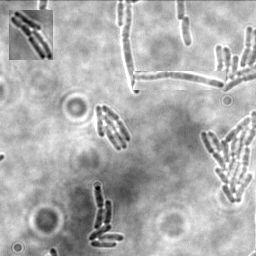Dividing: (123, 1, 142, 95), (133, 71, 226, 90)
Microcolony: (200, 109, 255, 205), (212, 25, 255, 94), (89, 184, 126, 248), (9, 10, 53, 60), (96, 103, 132, 150), (182, 16, 193, 48)
